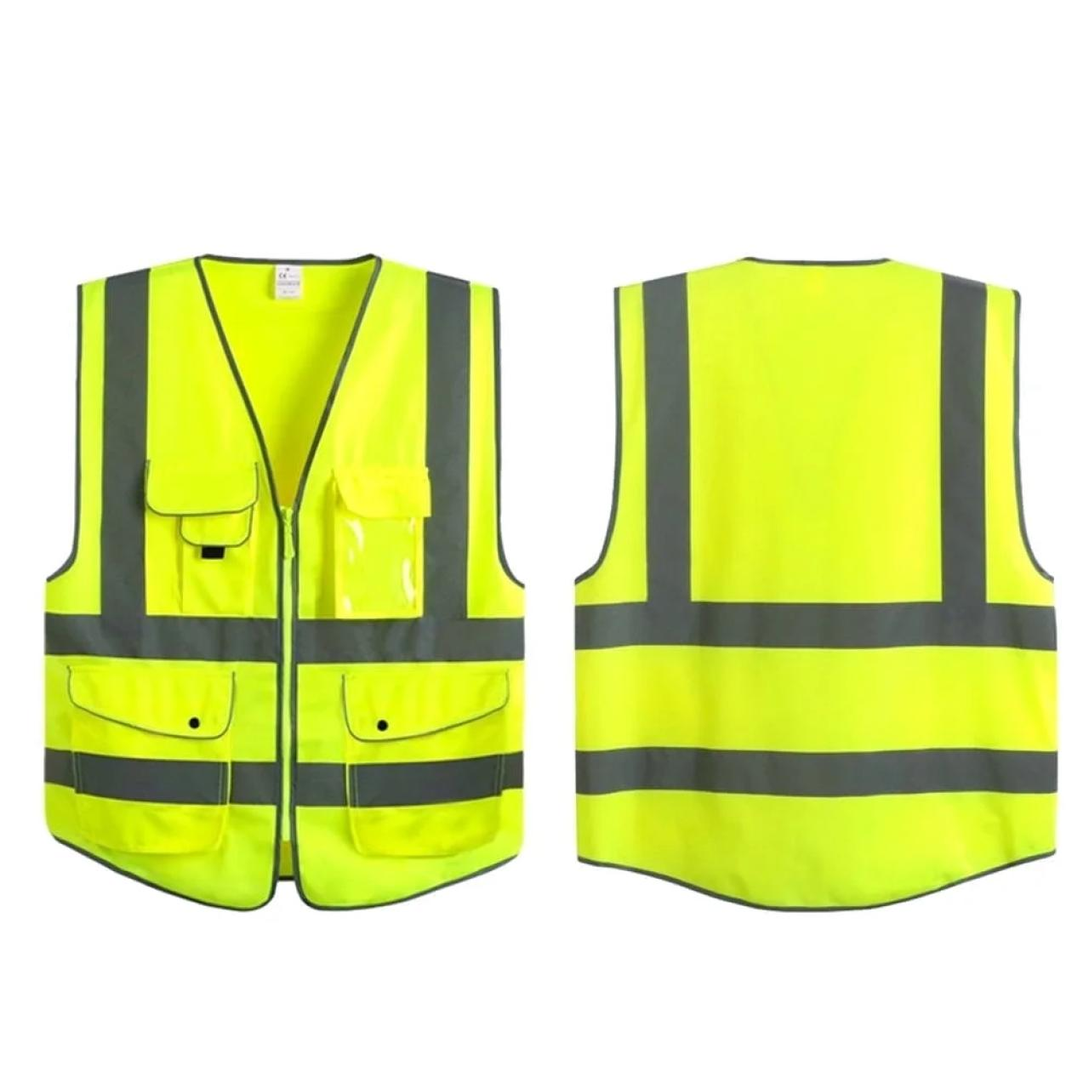Safety_Vest: (545, 232, 1089, 953), (0, 255, 540, 934)
